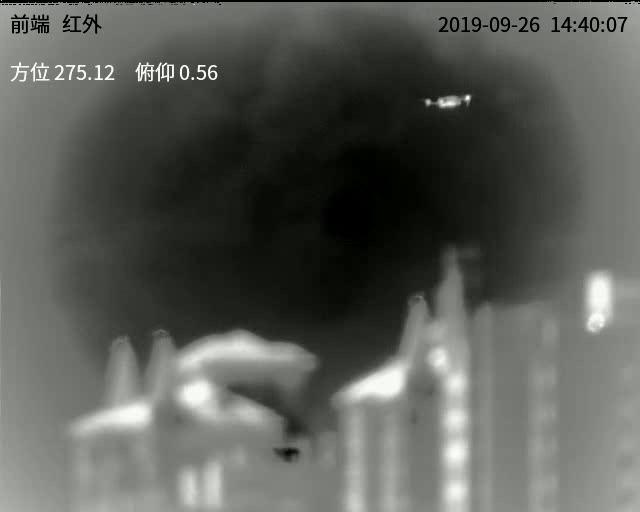DRONE: (421, 92, 473, 109)
